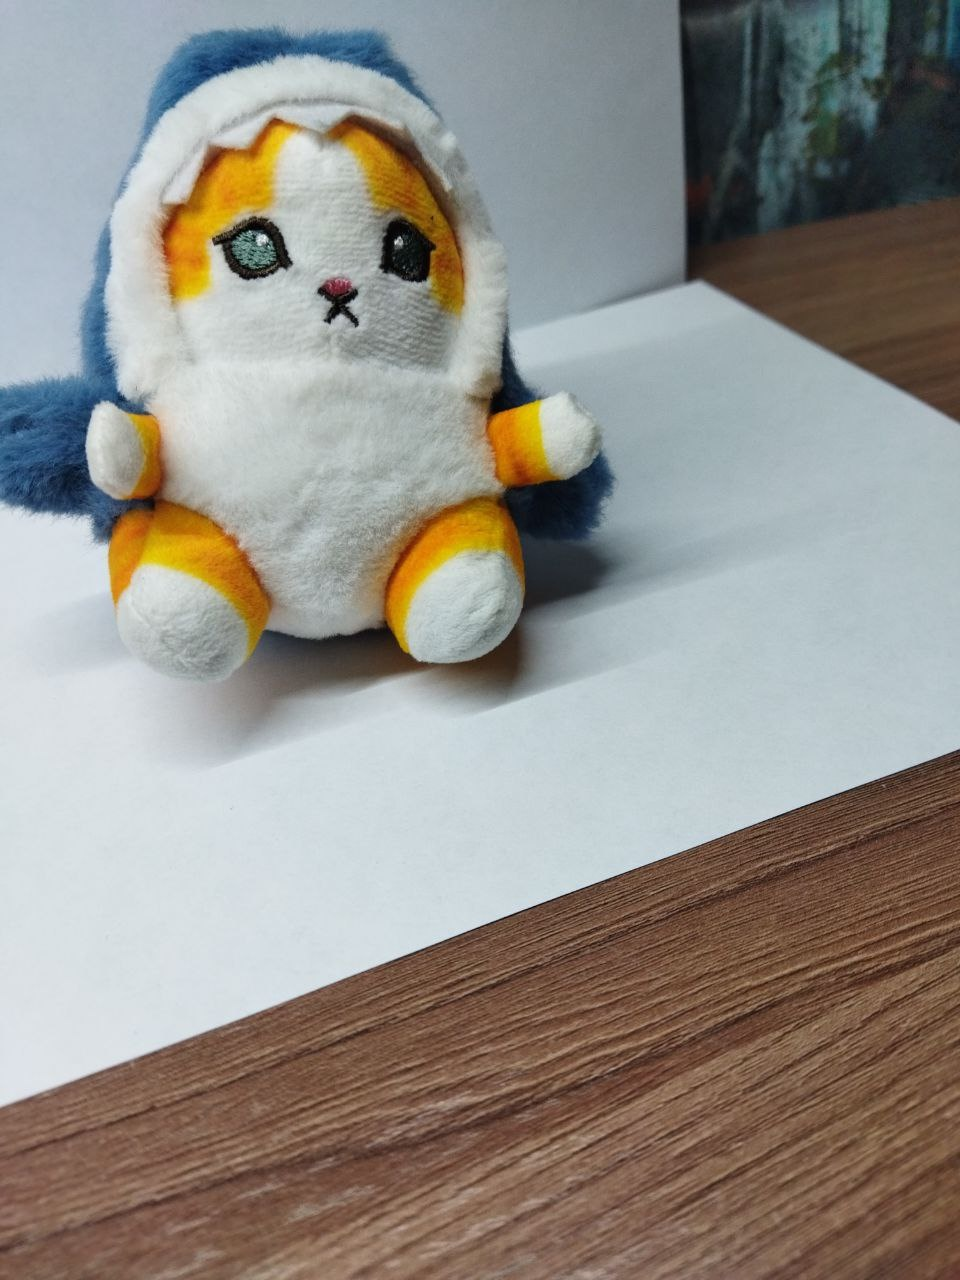Snark Cat: (1, 25, 617, 668)
